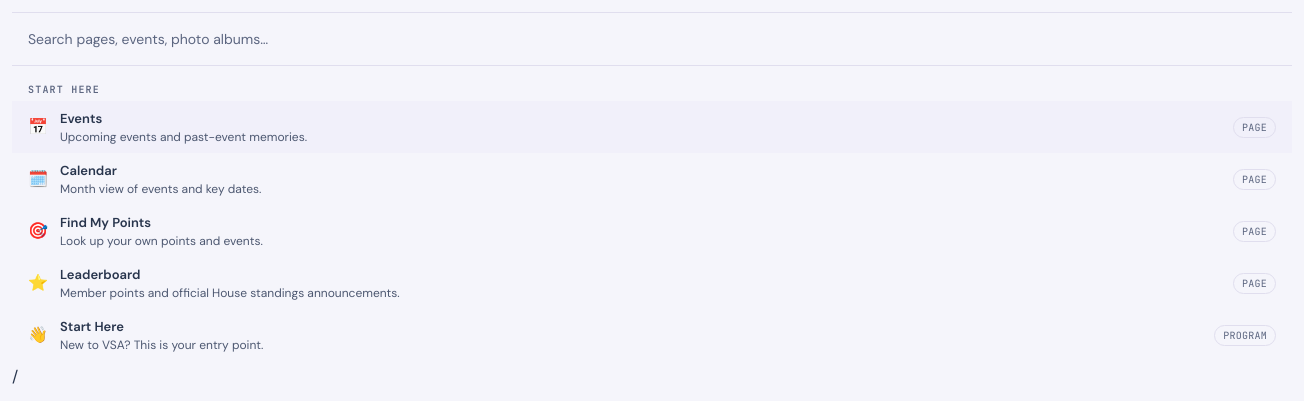
Test case: PublicSearchPanel (dialog variant) › summarizes the result count in a polite live region
Type "general body" into the dropdown. click: {"x": 652, "y": 39}
box: top-left (12, 12), bottom-right (1292, 66)
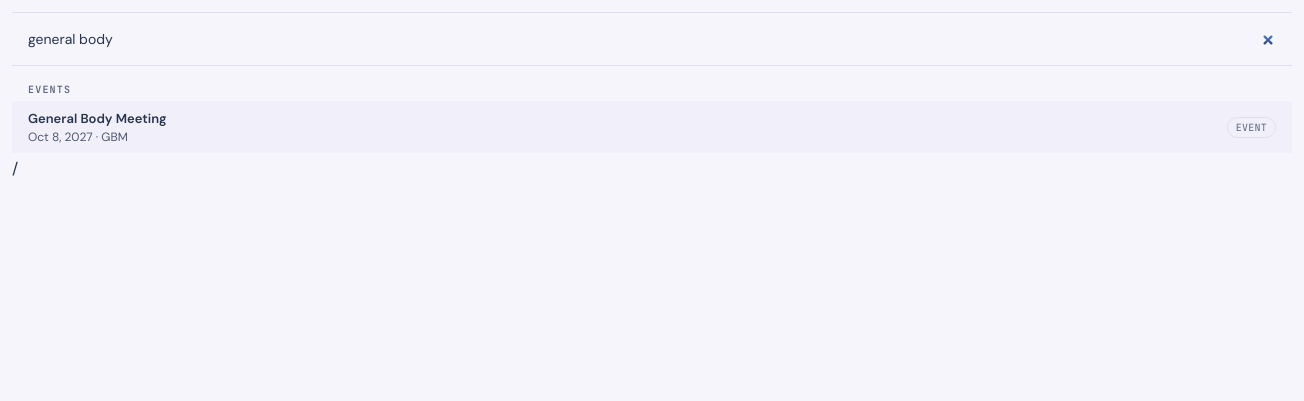
Expected: the option "General Body Meeting Oct 8, 2027 · GBM Event" is shown, top-left (12, 101), bottom-right (1292, 153)
